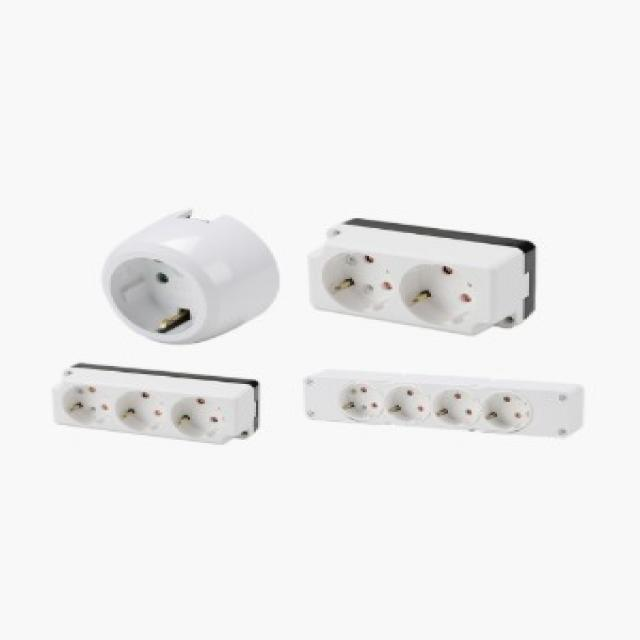typeb: (305, 210, 538, 344), (80, 204, 286, 346), (300, 363, 595, 456), (51, 354, 268, 456)
